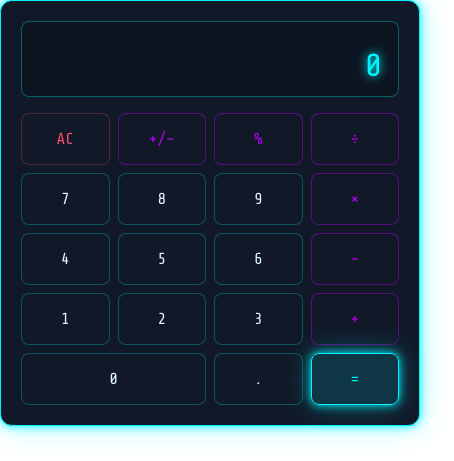
Calculator — decimal › starts 0. when decimal pressed while waiting for operand
Click the button "2": click(162, 319) [118,293,206,345]
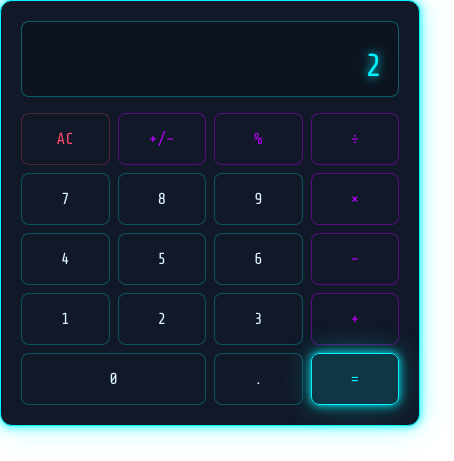
Click the button "+": click(355, 319) [310,293,399,345]
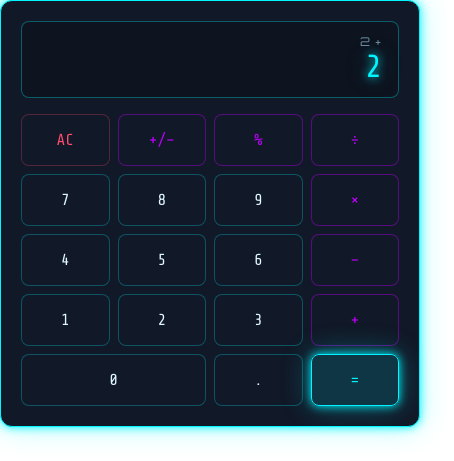
Click the button ".": click(258, 380) [214,354,302,406]
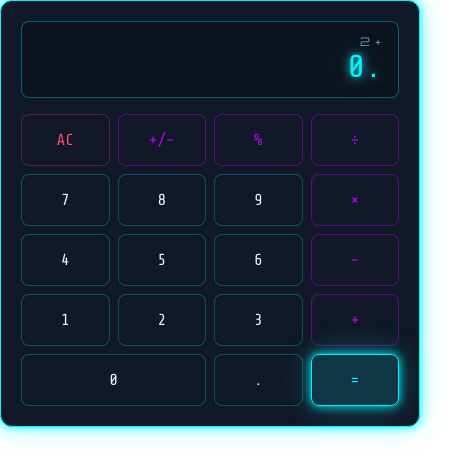
Result: the text with class "display-value" reads "0." at [347,49,382,85]
